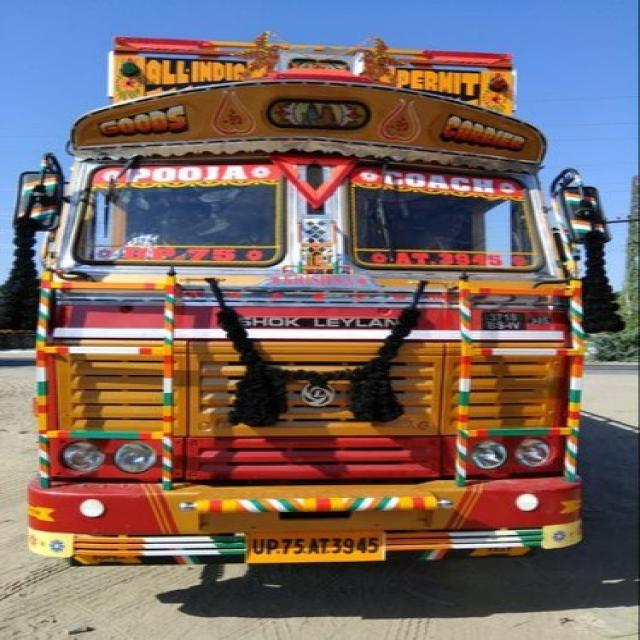Plate: (248, 528, 384, 562)
truck: (42, 33, 584, 572)
